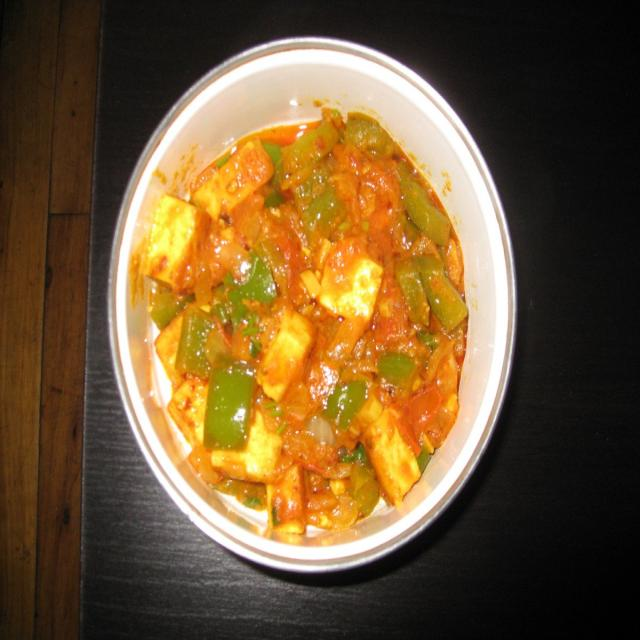panneer: (166, 163, 450, 516)
